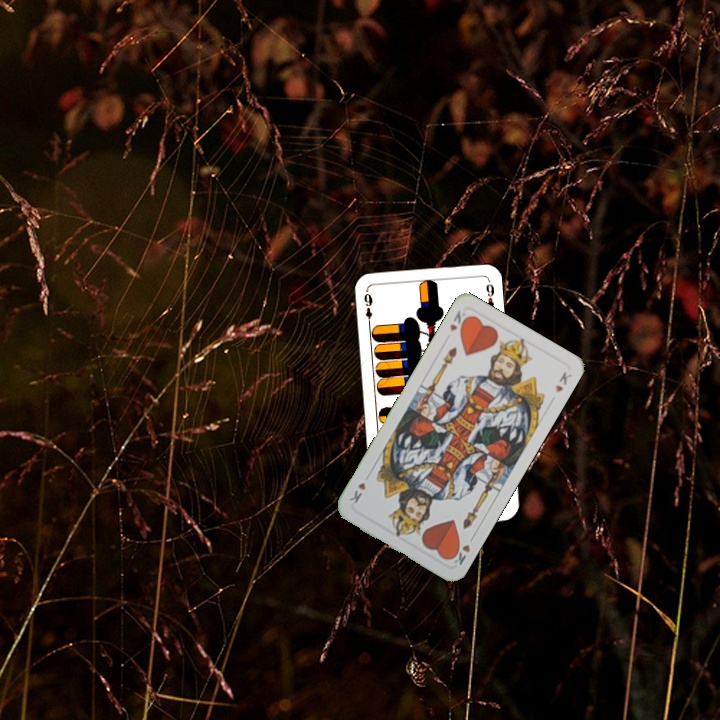E9: (360, 289, 375, 328)
HK: (447, 537, 473, 568), (445, 306, 471, 335)
